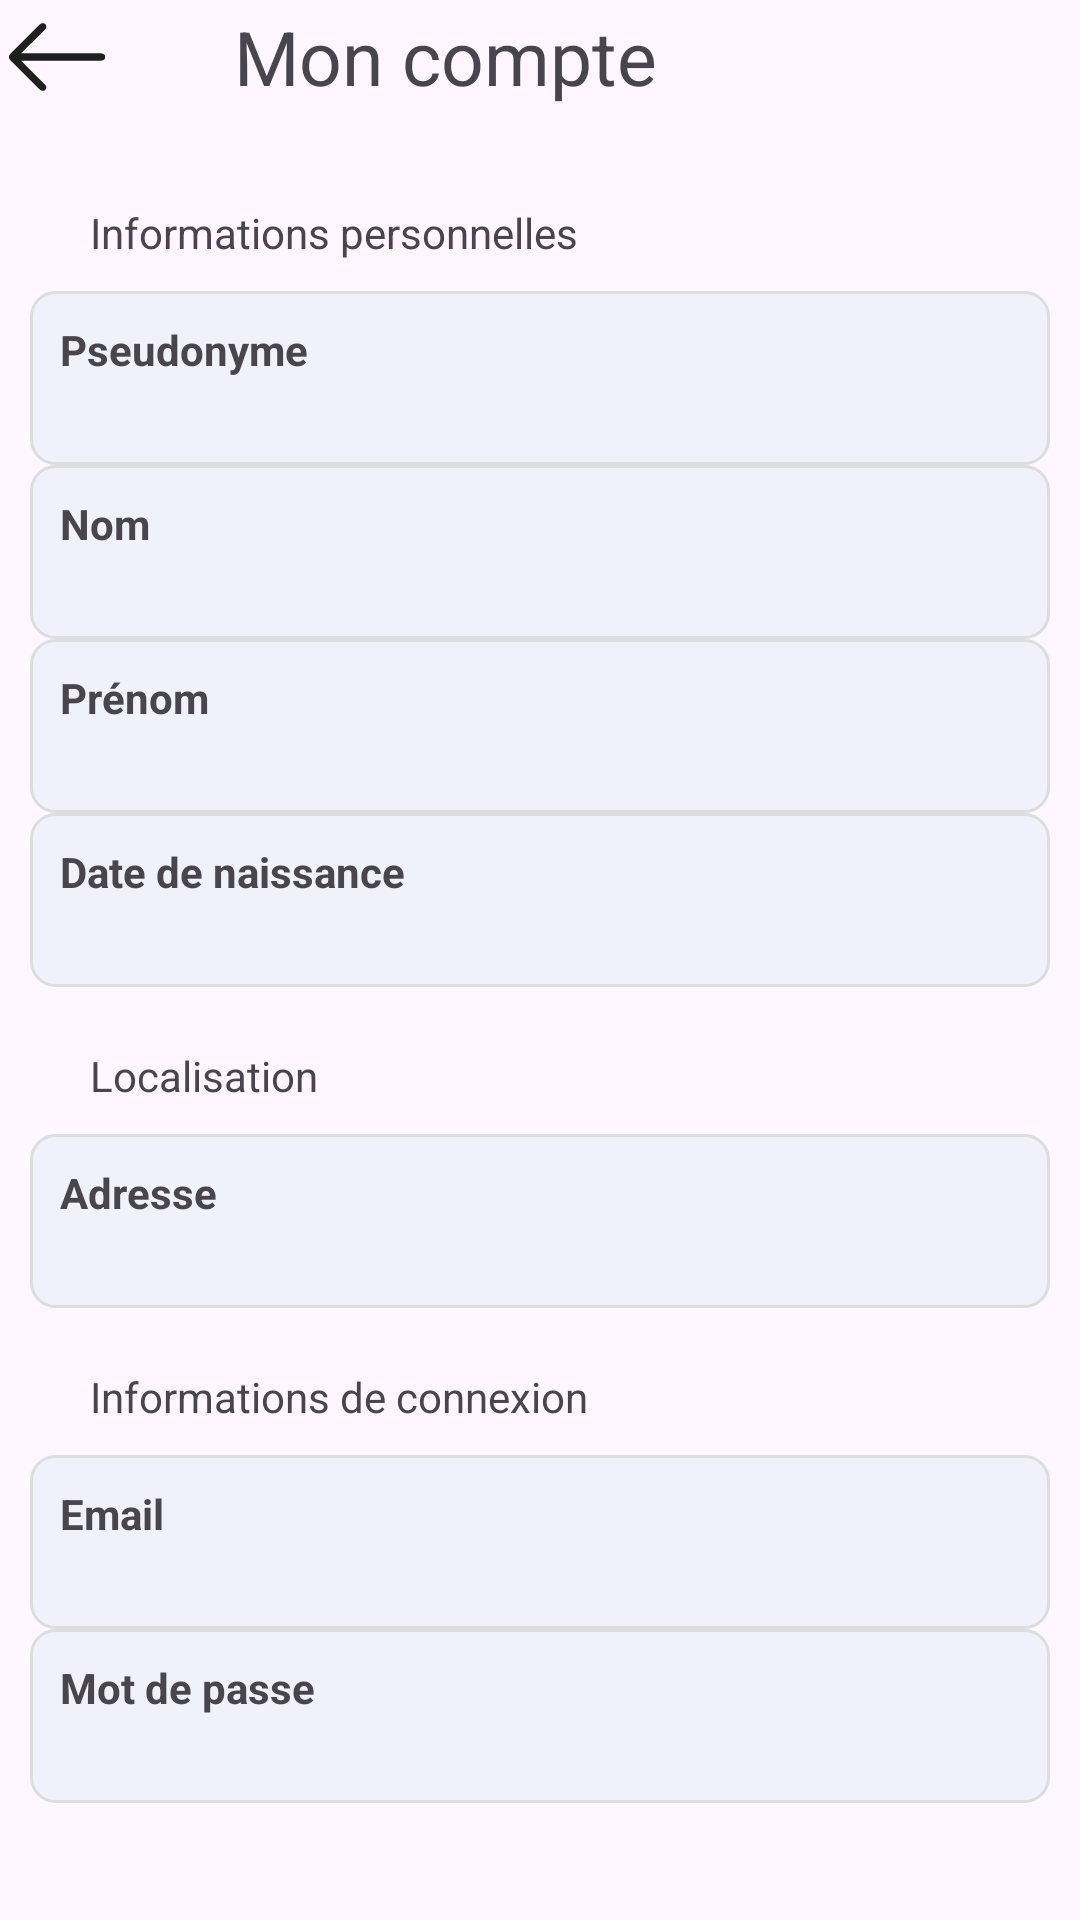

Screen size 1080 x 1920. Icon name, then its box in pixels as (x1, y1, x2, y2):
Back: (9, 23, 105, 91)
